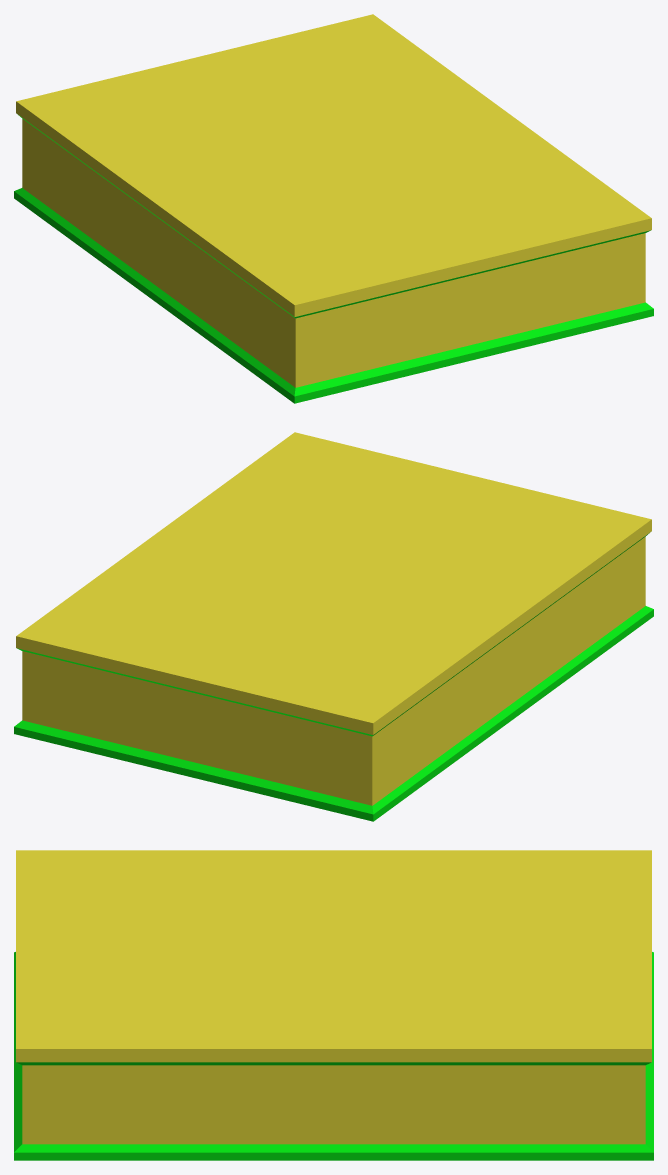
Rendered from BaseTempleV1.fbx.
3 views of the same model, one above another, from view 1: azimuth 30°, elevation 25°; view 2: azimuth 150°, elevation 25°; view 3: azimuth 270°, elevation 25° (orthographic). The views are drawn at different scales.
Parts seen in each view (by area): view 1: Box001; view 2: Box001; view 3: Box001.
Part boxes in pixels (x1=…): Box001: x1=14, y1=14, x2=653, y2=403; Box001: x1=14, y1=432, x2=653, y2=821; Box001: x1=14, y1=850, x2=653, y2=1160.
Bounding box in the file's own units: 18354 × 4755 × 24807.
